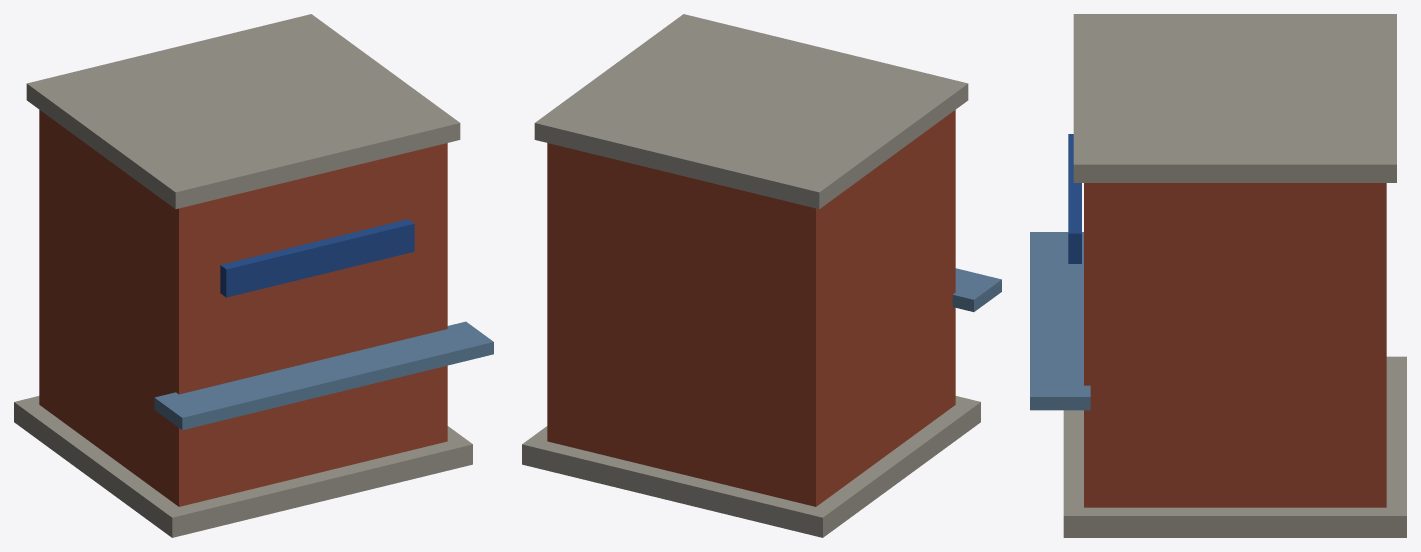
Rendered from bld_commercial_a05_lod2.glb.
3 views of the same model, side by side, from view 1: azimuth 30°, elevation 25°; view 2: azimuth 150°, elevation 25°; view 3: azimuth 270°, elevation 25° (orthographic). The views are drawn at different scales.
Parts seen in each view (by area): view 1: body; view 2: body; view 3: body.
Boxes of the visible parts, x1=… form: body: x1=14, y1=14, x2=493, y2=537; body: x1=522, y1=14, x2=1001, y2=537; body: x1=1030, y1=14, x2=1406, y2=537.
Bounding box in the file's own units: 5.8 × 6.05 × 5.6.
